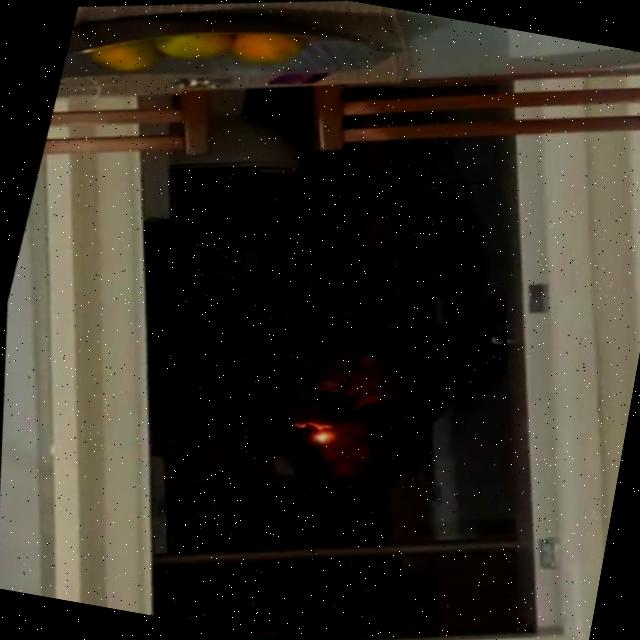fire: (302, 424, 338, 451)
